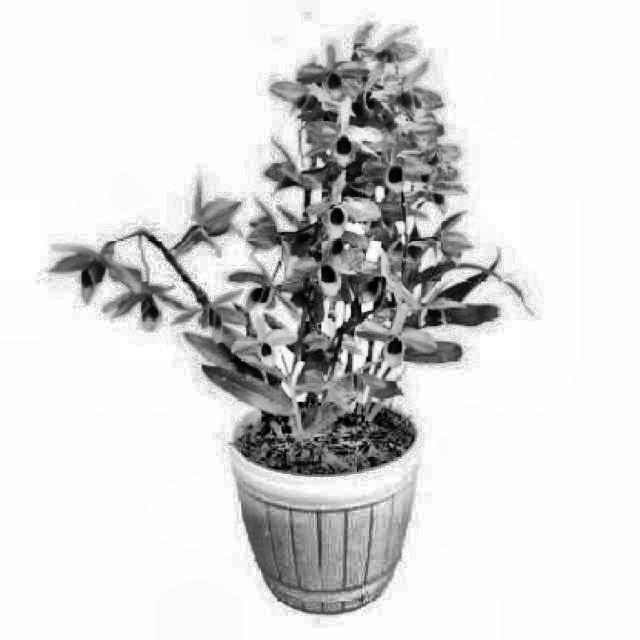plants: (235, 45, 430, 604)
